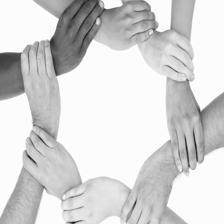Hand: (53, 70, 119, 145), (125, 58, 188, 133), (178, 61, 220, 129), (125, 6, 169, 58), (0, 0, 29, 54)
